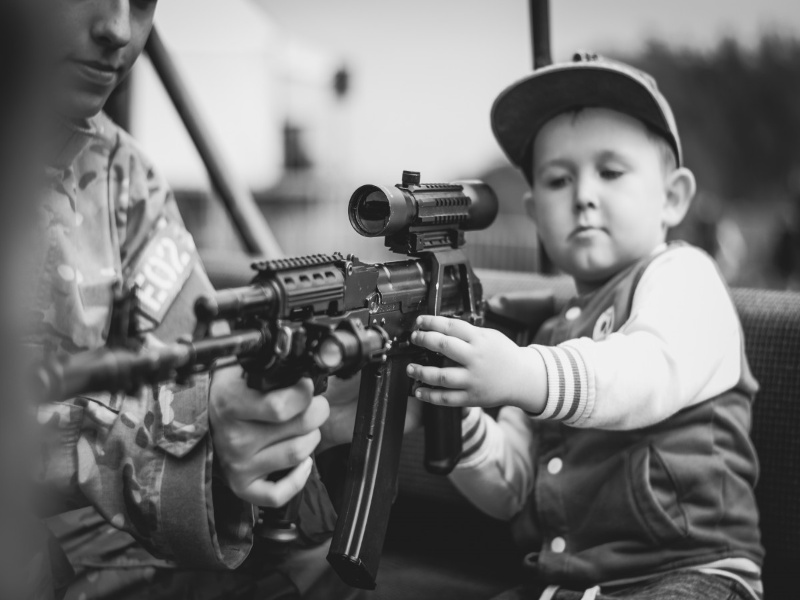person: (404, 54, 764, 600), (1, 1, 329, 600)
weapon: (36, 169, 500, 592)
